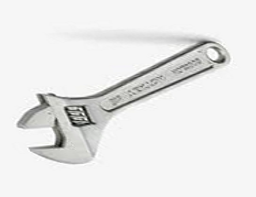Wrench: (14, 38, 242, 171)
